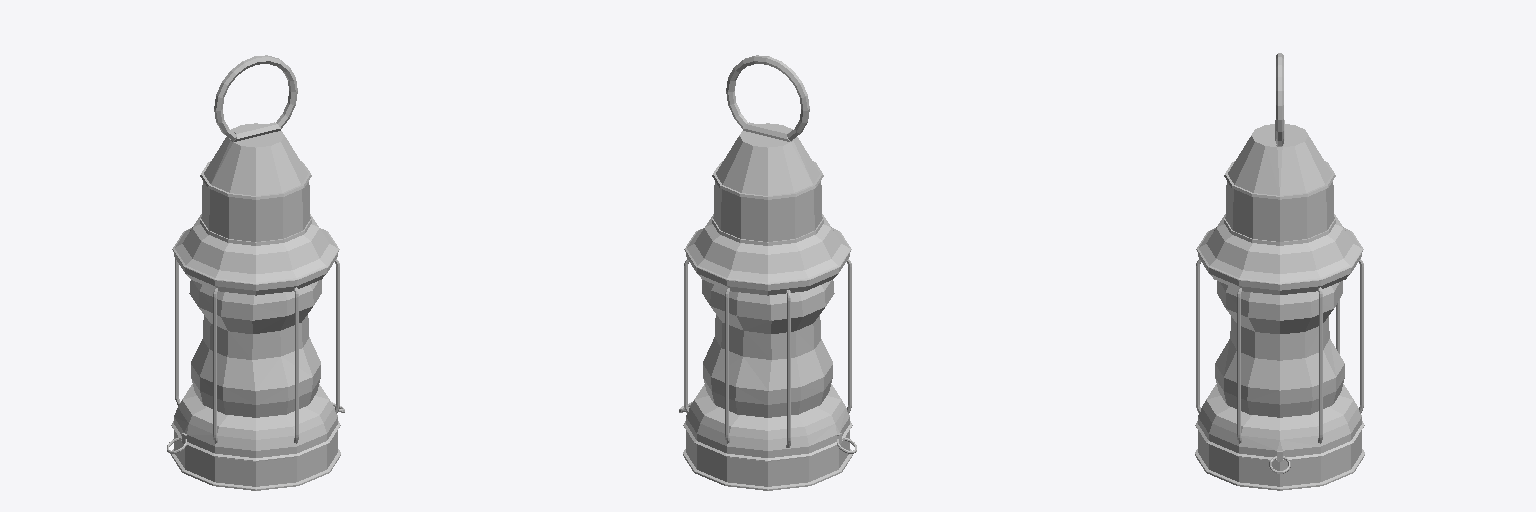
File: Lantern.obj
3 renders of one model, left to right at view 1: azimuth 30°, elevation 25°; view 2: azimuth 150°, elevation 25°; view 3: azimuth 270°, elevation 25°, orthographic.
Visible parts, largest first — view 1: pCylinder7; view 2: pCylinder7; view 3: pCylinder7.
Boxes of the visible parts, box(x1,y1,x2,y2) form: pCylinder7: box(167, 55, 344, 490); pCylinder7: box(679, 55, 856, 490); pCylinder7: box(1195, 53, 1364, 490).
Bounding box in the file's own units: 4.66 × 10.1 × 3.93.